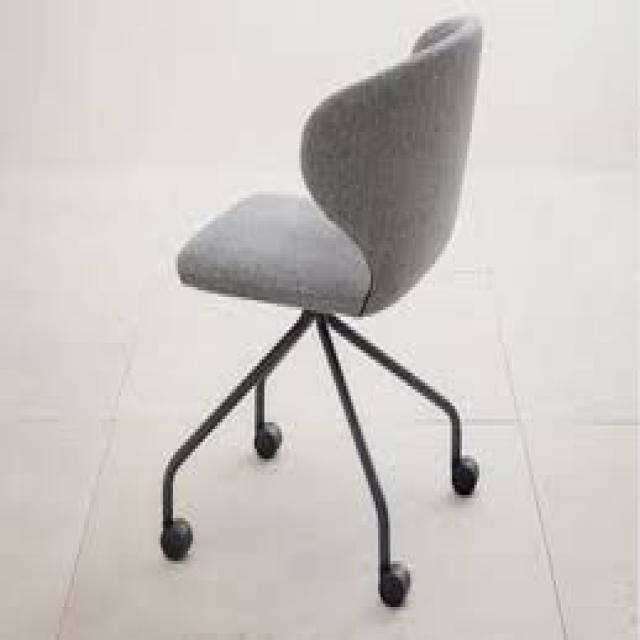chair: (133, 0, 522, 640)
